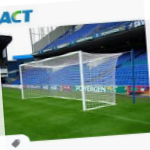goals: (19, 49, 119, 113)
